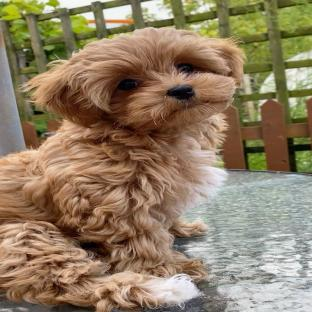Animal: (0, 27, 245, 312)
